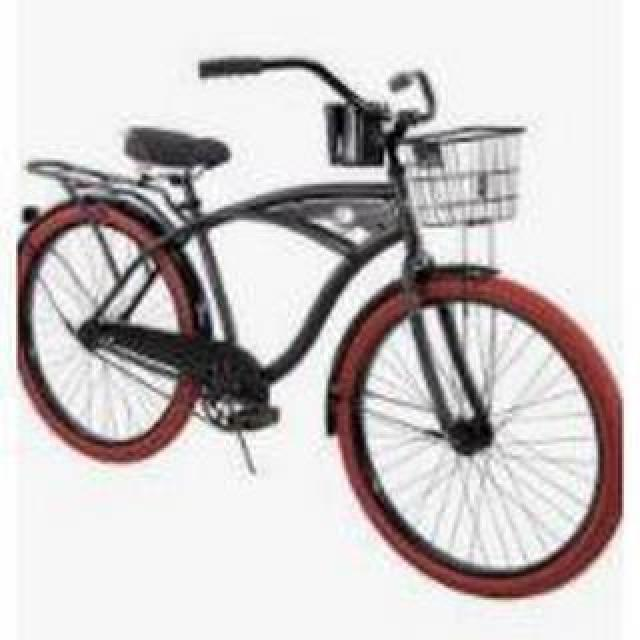Person: (18, 53, 622, 597)
